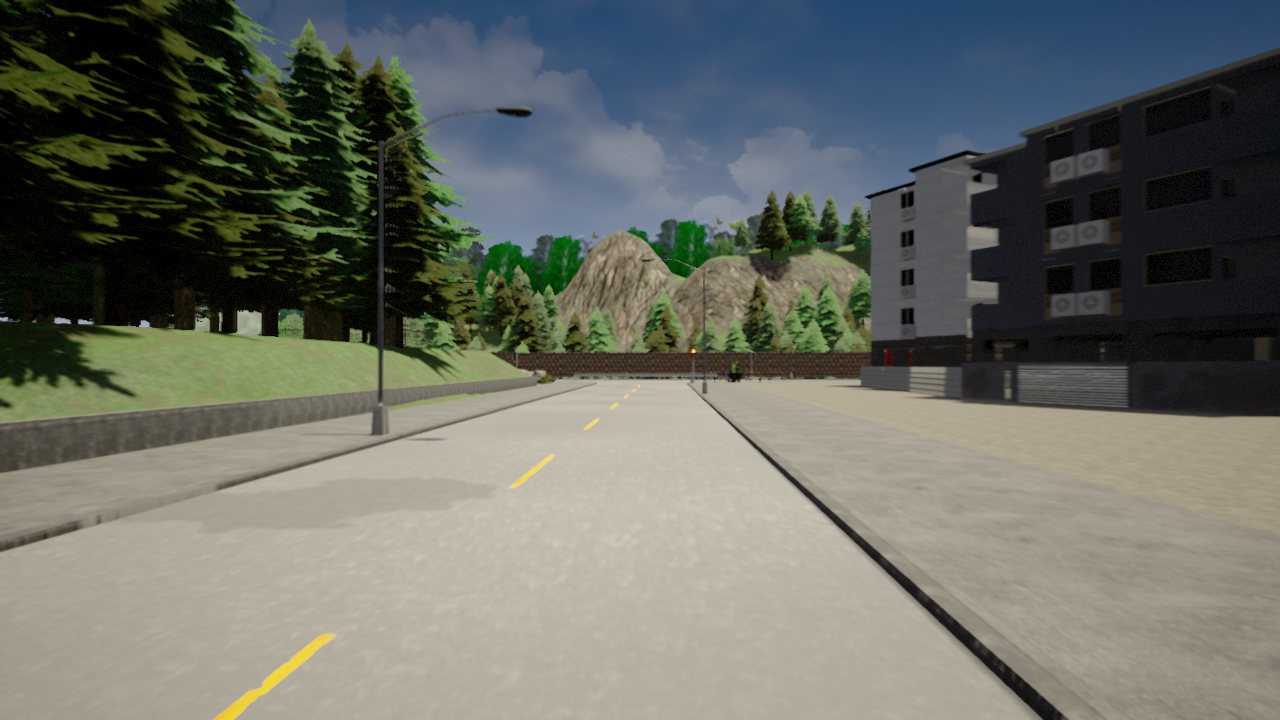red: (690, 347, 697, 361)
